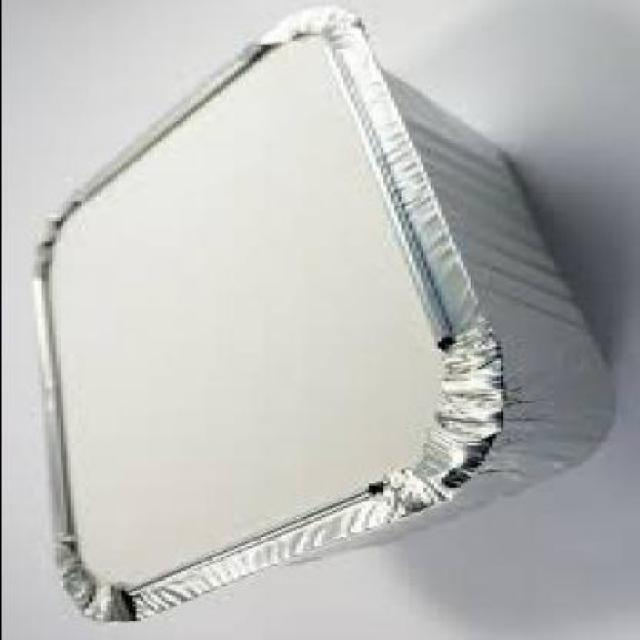cardboard: (45, 40, 429, 591)
metal: (26, 8, 605, 623)
